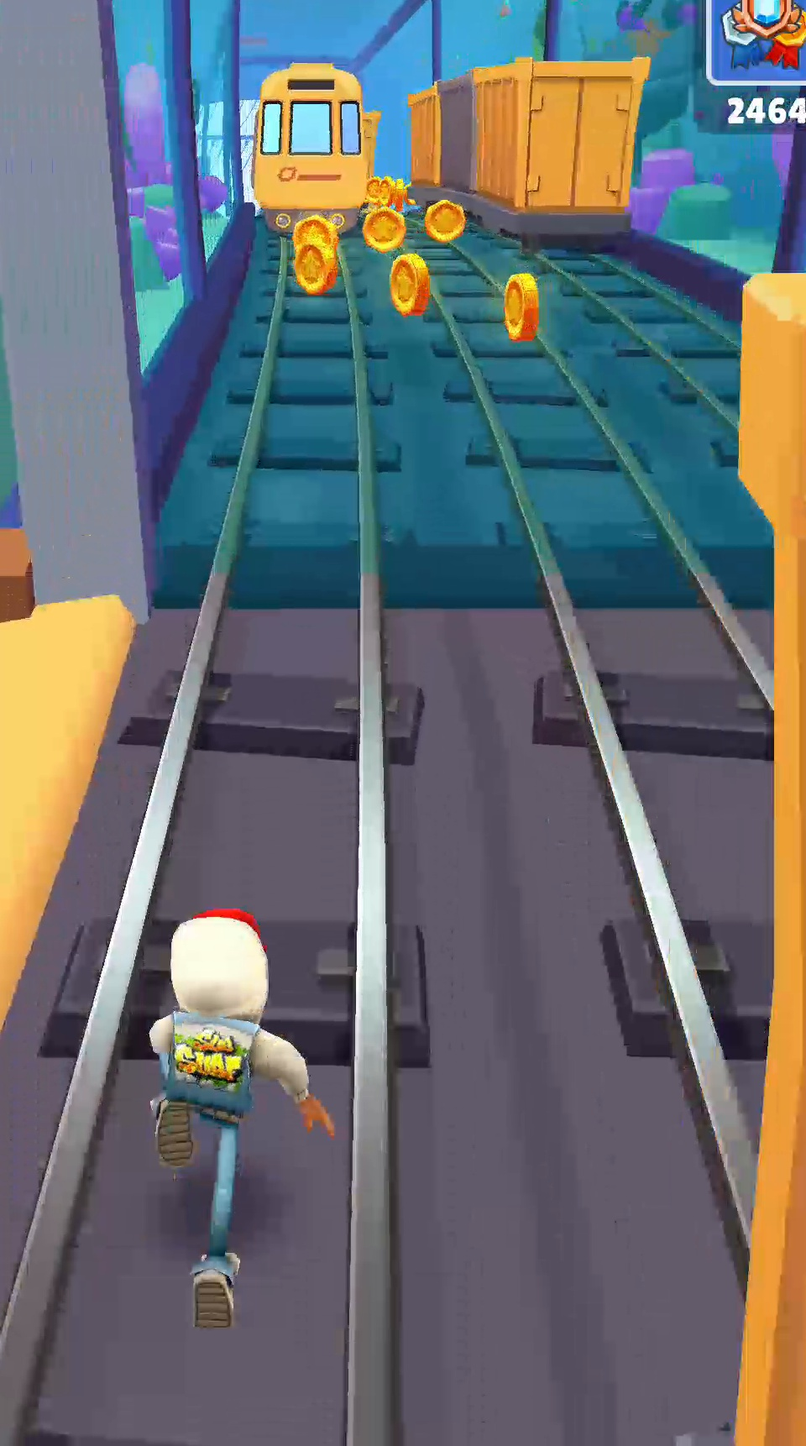train: (409, 57, 650, 217), (252, 62, 373, 238), (364, 112, 380, 178)
